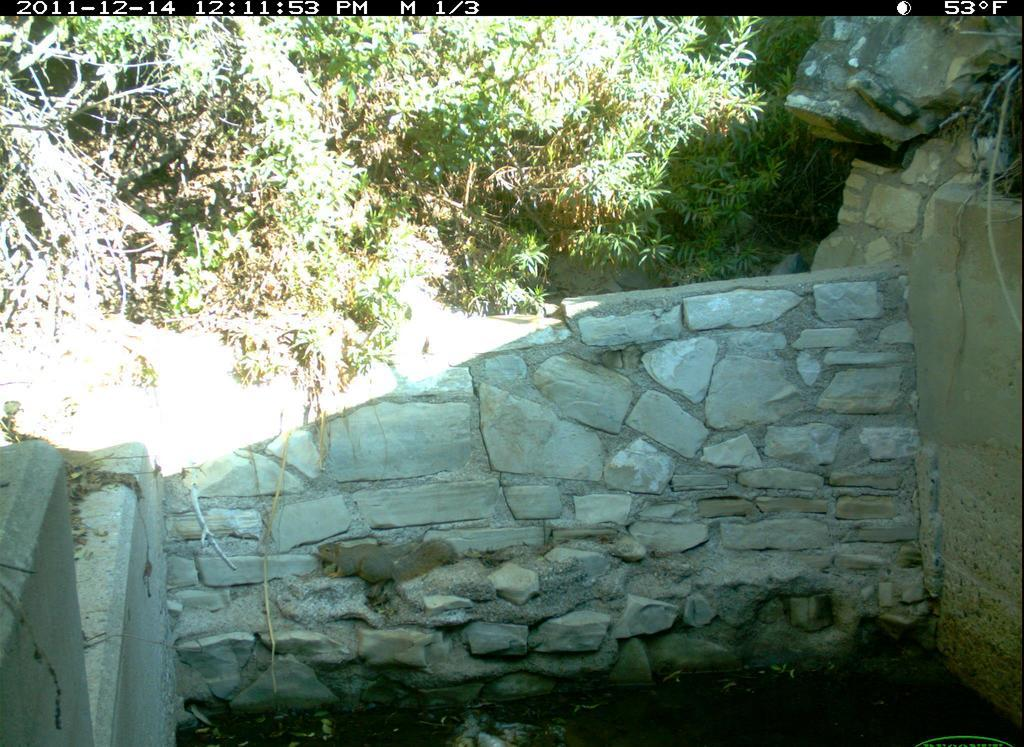squirrel: (314, 537, 464, 589)
